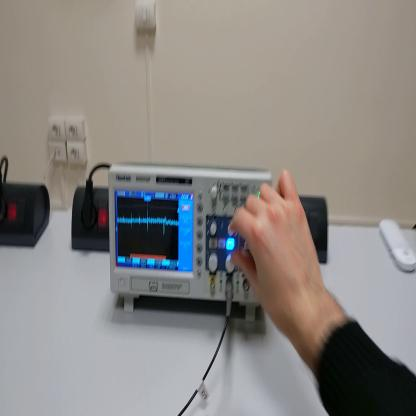hand: (227, 170, 324, 338)
oscilloscope: (108, 157, 276, 321)
socket: (2, 181, 52, 250), (70, 186, 112, 251)
